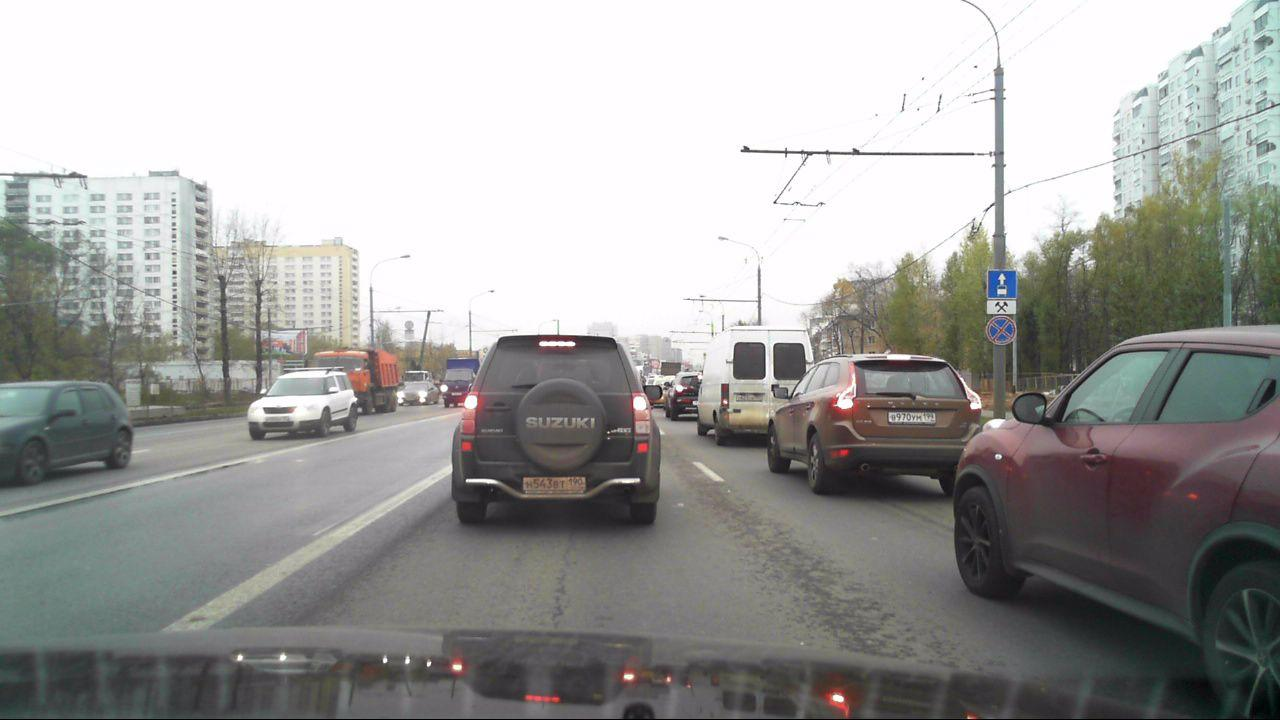3_27: (987, 316, 1016, 345)
5_14_1: (986, 268, 1018, 298)
8_5_2: (986, 299, 1017, 316)
